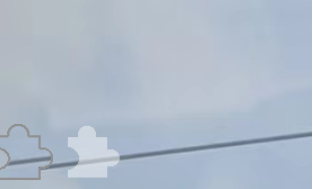target: (63, 125, 122, 180)
